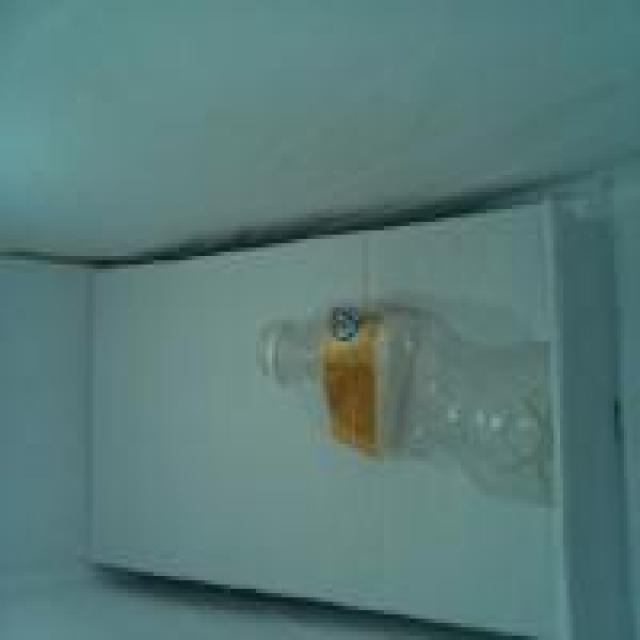bottle: (252, 299, 554, 496)
